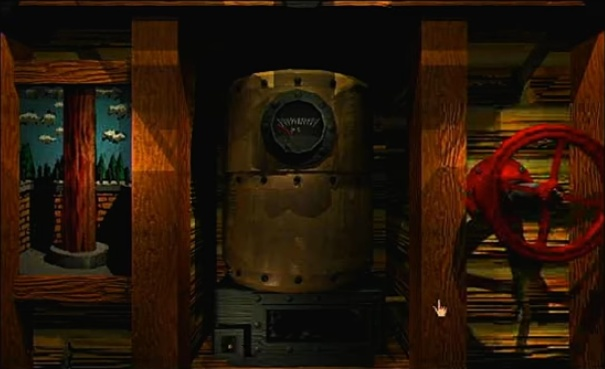Pointer: (430, 295, 451, 319)
